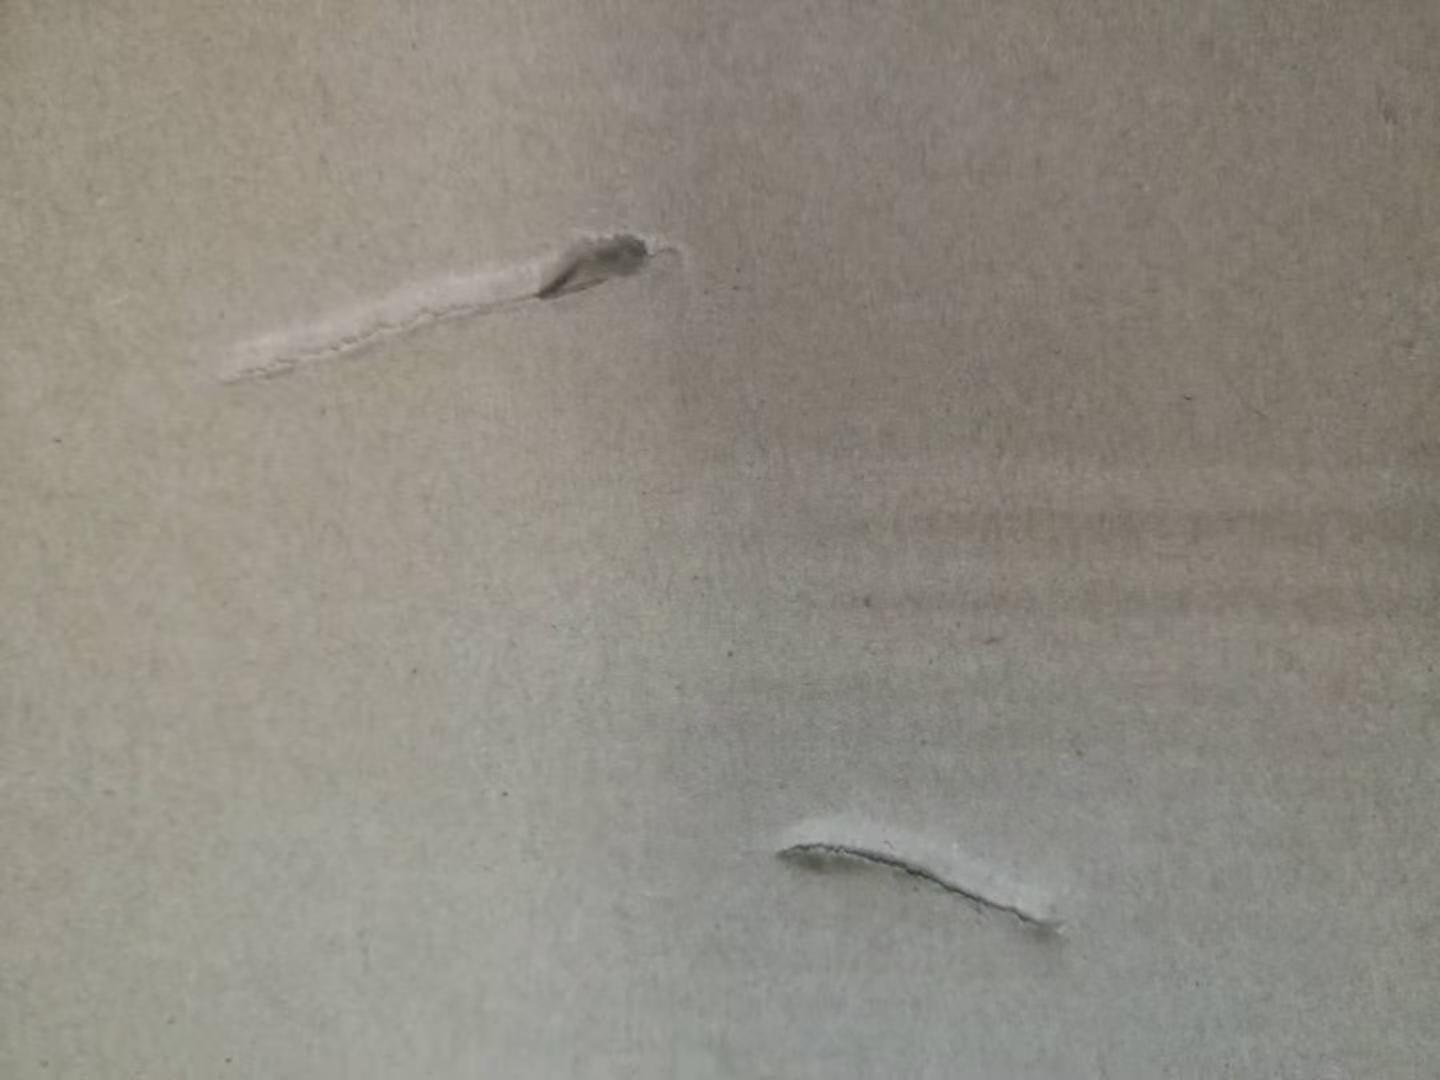defect: (190, 186, 717, 405), (732, 770, 1111, 985)
